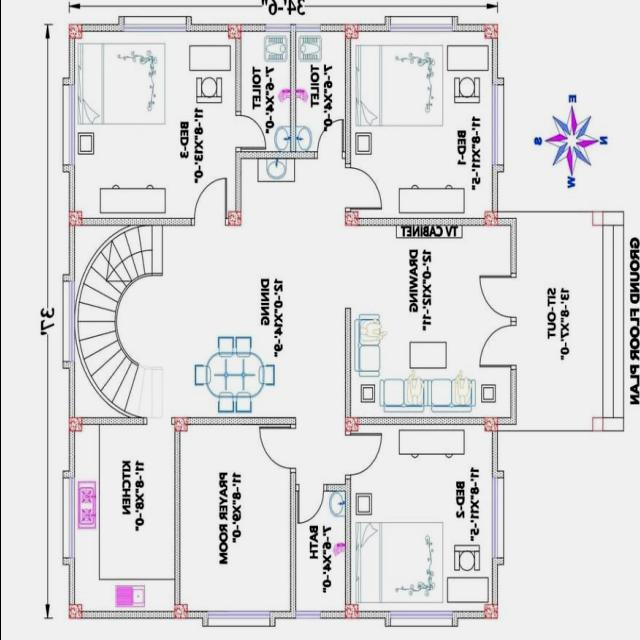column: (338, 200, 363, 232), (64, 202, 89, 233), (62, 411, 86, 437), (223, 17, 246, 43), (168, 600, 190, 626), (169, 411, 190, 438), (340, 17, 360, 44), (64, 600, 86, 624), (340, 600, 362, 624), (481, 206, 500, 232), (480, 20, 500, 44), (224, 206, 244, 230), (65, 20, 85, 42), (340, 413, 360, 435), (481, 413, 500, 435), (481, 599, 499, 622)
